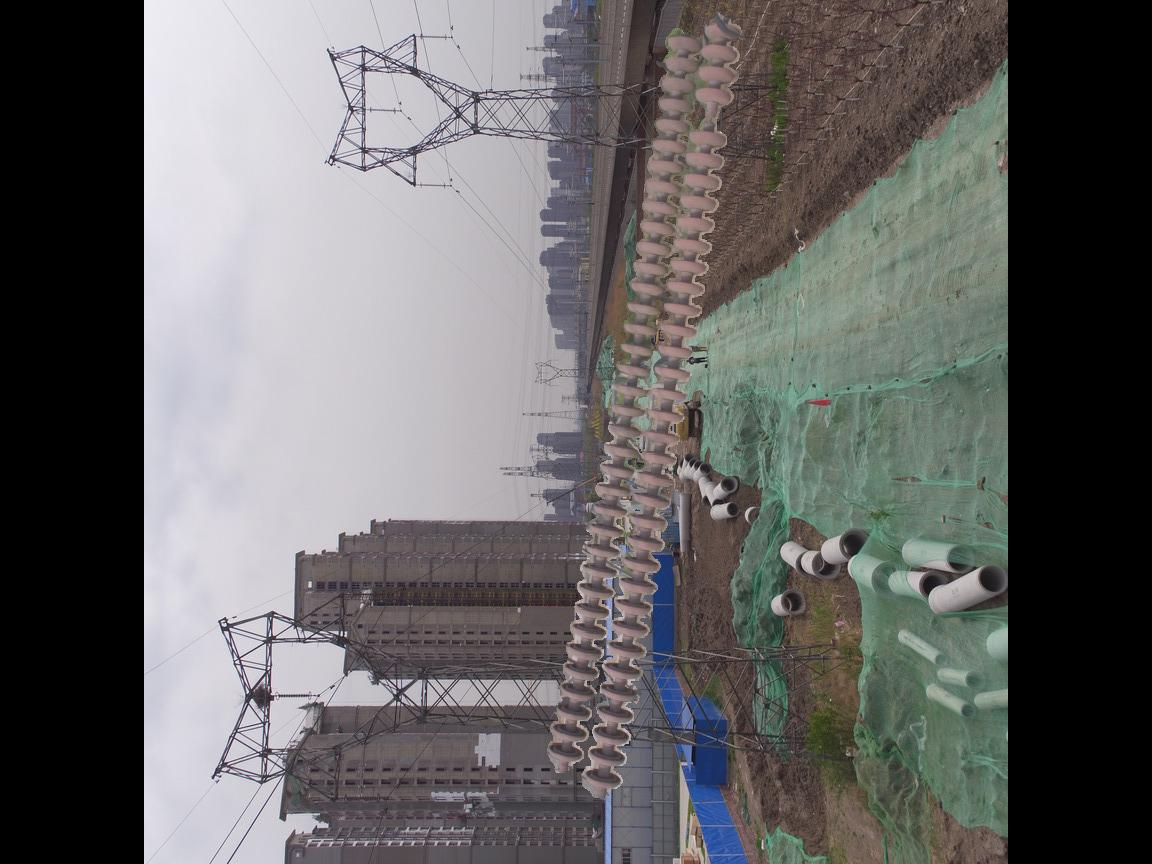insulator: (542, 14, 751, 802)
insulator_stringdrop: (686, 84, 738, 151)
